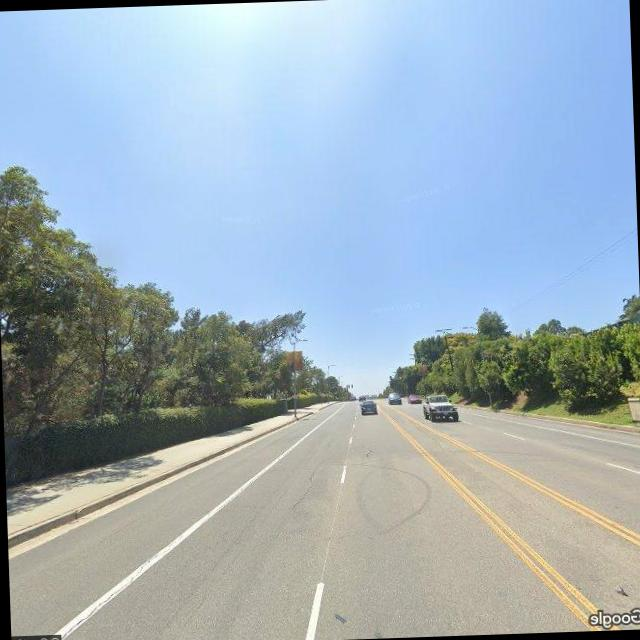pothole: (286, 457, 324, 513)
